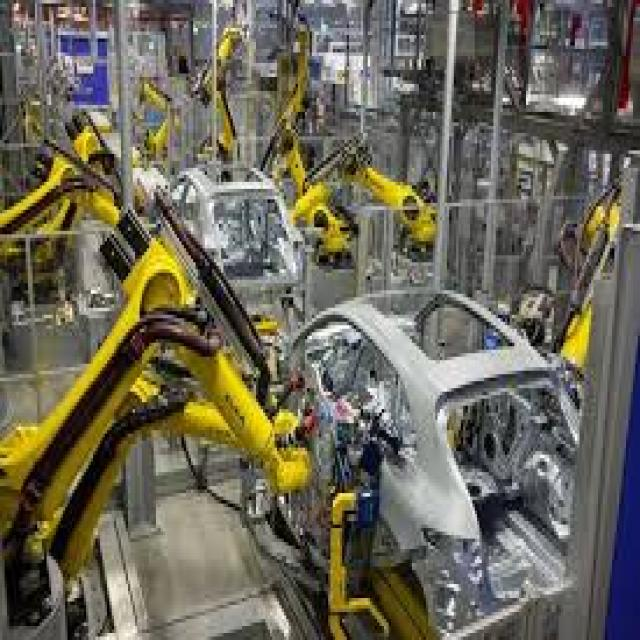Robotic-arm: (0, 210, 307, 640), (0, 105, 135, 247), (299, 139, 436, 277), (564, 174, 632, 369), (264, 1, 319, 188), (196, 15, 249, 165), (133, 50, 182, 162)
